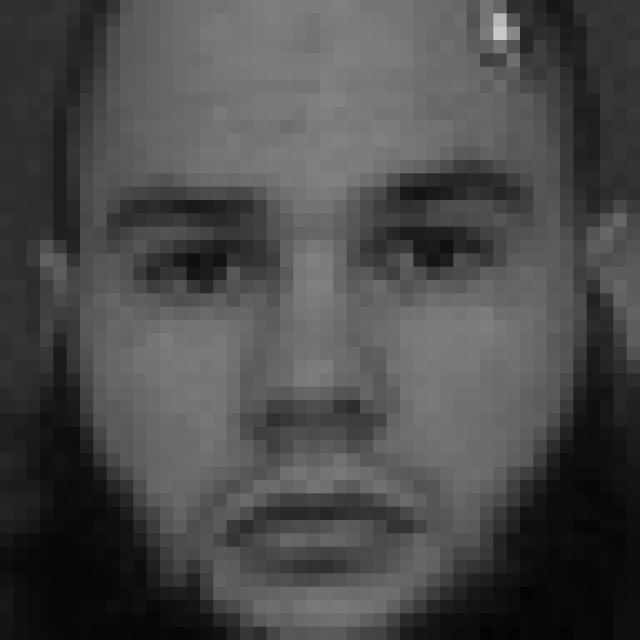neutral: (108, 149, 547, 588)
